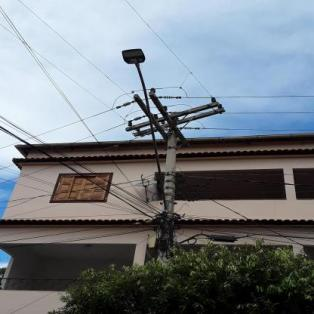Poste: (154, 114, 183, 259)
